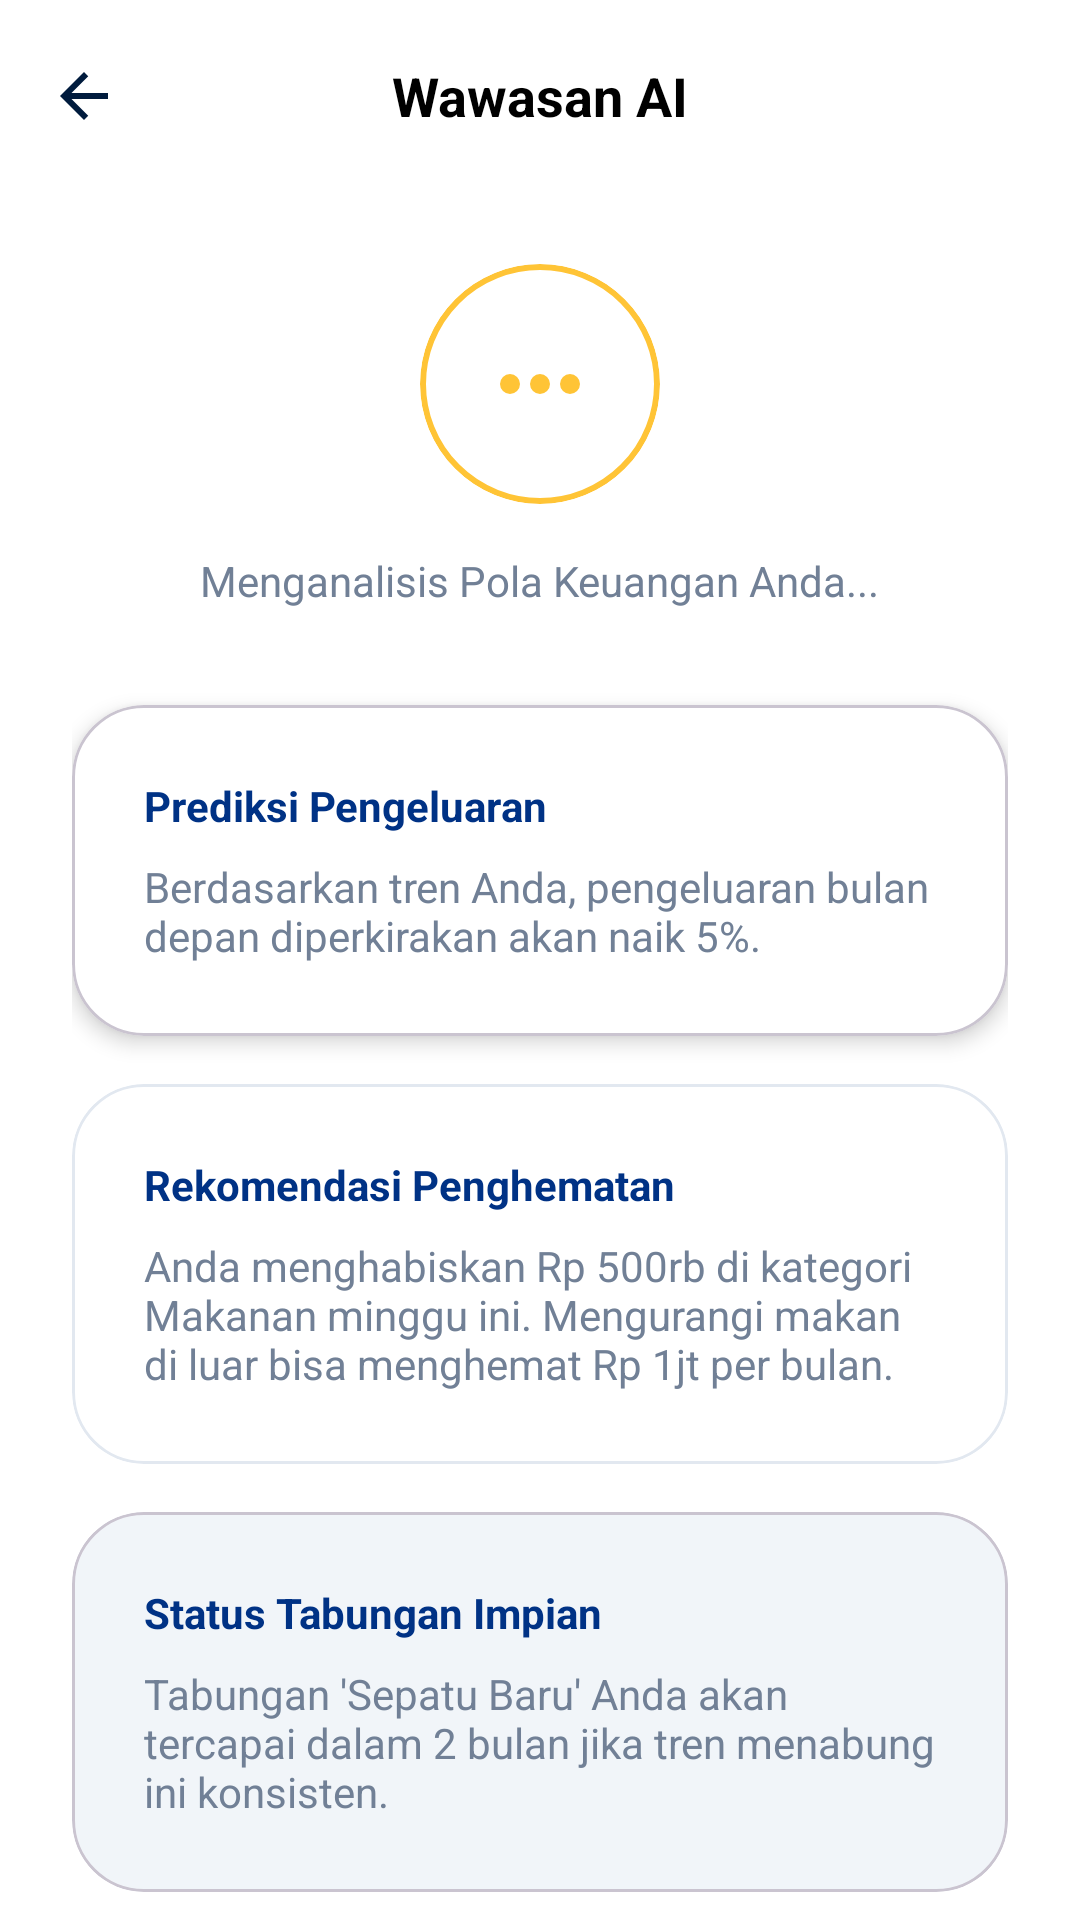

Point at icon controls on the screen. Image size 1080px×1920px, points as (x=x, y=y).
more: (x=540, y=384)
